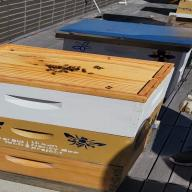Bee: (79, 70, 105, 78)
